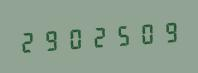five: (109, 19, 131, 50)
nine: (40, 24, 62, 55), (155, 16, 177, 47)
two: (17, 25, 39, 57), (86, 20, 108, 52)
zero: (132, 17, 154, 49), (63, 22, 85, 53)
